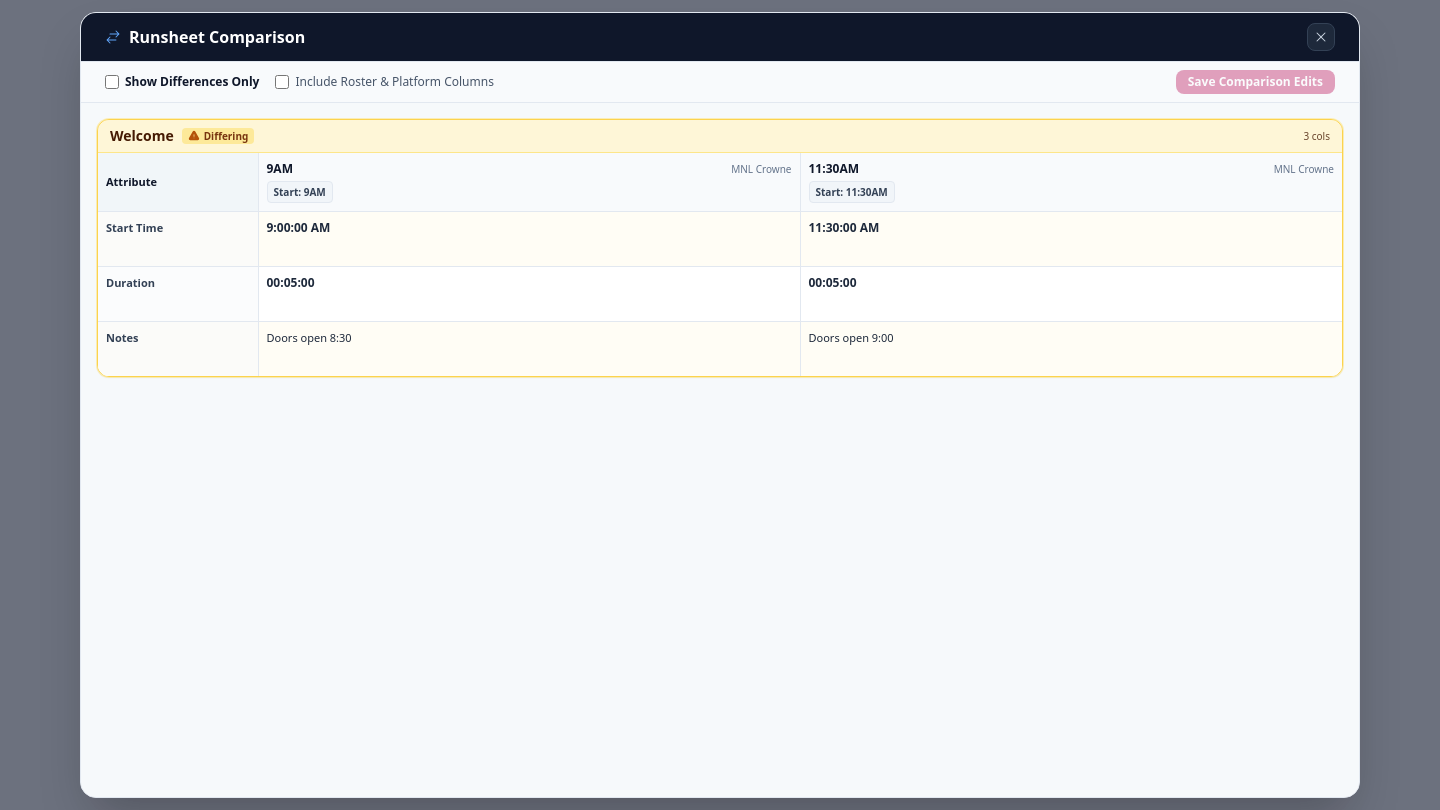
RunsheetCompareView › does not expose compare editing or saving in View mode
This screenshot has width=1440, height=810.
Expected: the text "Doors open 8:30" is shown, [266,330,352,345]
Click the text "Doors open 8:30" at x=529, y=349, box [258,322,800,376]
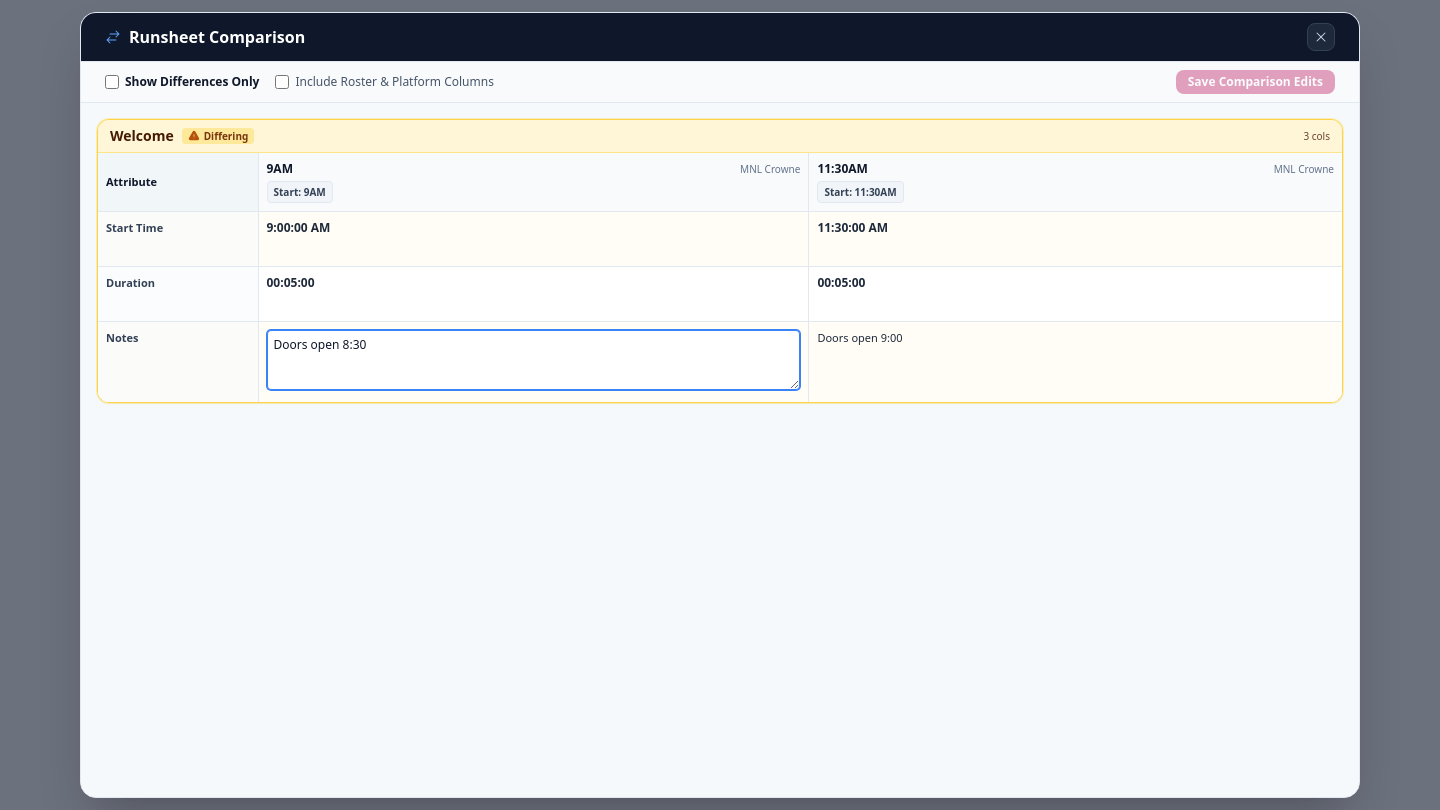
Now the text box holds "Doors open 8:30", box [266,330,800,390]
